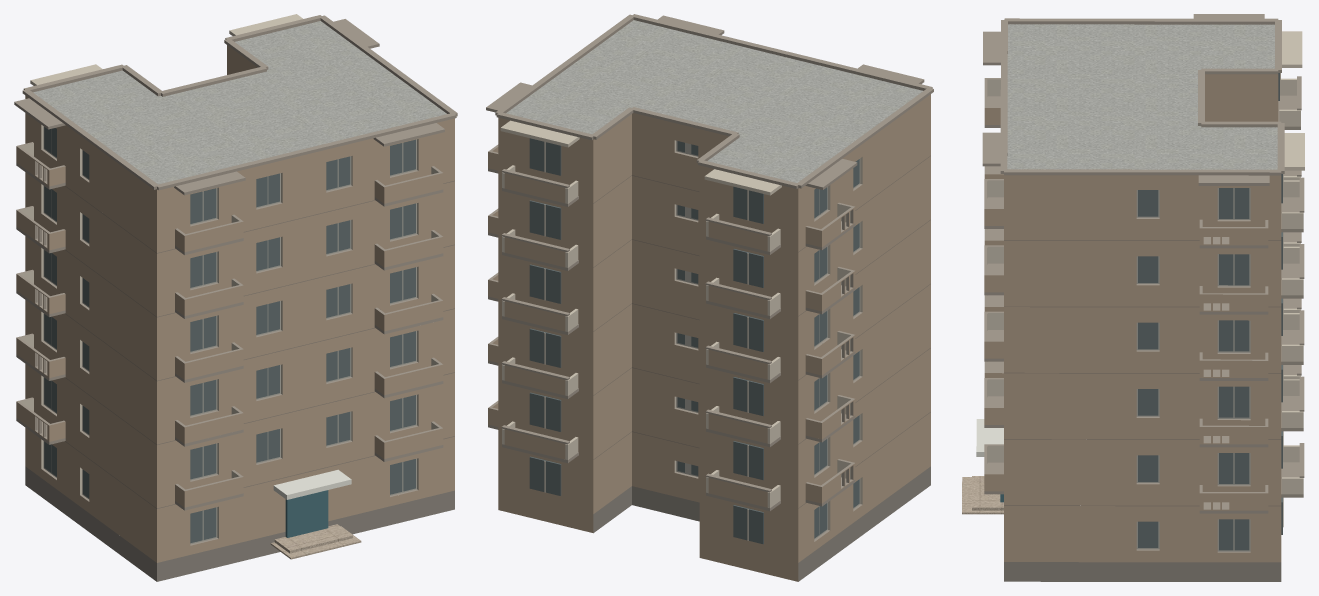
File: chunk-dorm-way-759147059.glb
3 renders of one model, left to right at view 1: azimuth 30°, elevation 25°; view 2: azimuth 150°, elevation 25°; view 3: azimuth 270°, elevation 25°, orthographic. The views are drawn at different scales.
Parts seen in each view (by area): view 1: chunk-dorm-way-759147059; view 2: chunk-dorm-way-759147059; view 3: chunk-dorm-way-759147059.
Part boxes in pixels (x1,y1,x2,y2): chunk-dorm-way-759147059: (14,14,457,581); chunk-dorm-way-759147059: (486,14,933,581); chunk-dorm-way-759147059: (962,14,1304,581).
Bounding box in the file's own units: 18.05 × 20.45 × 15.46.
11 materials, 2 textured.
